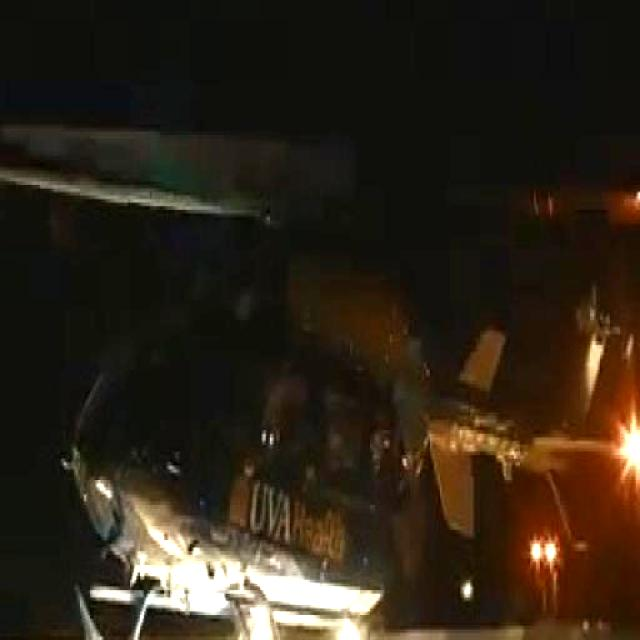drone: (0, 90, 608, 640)
